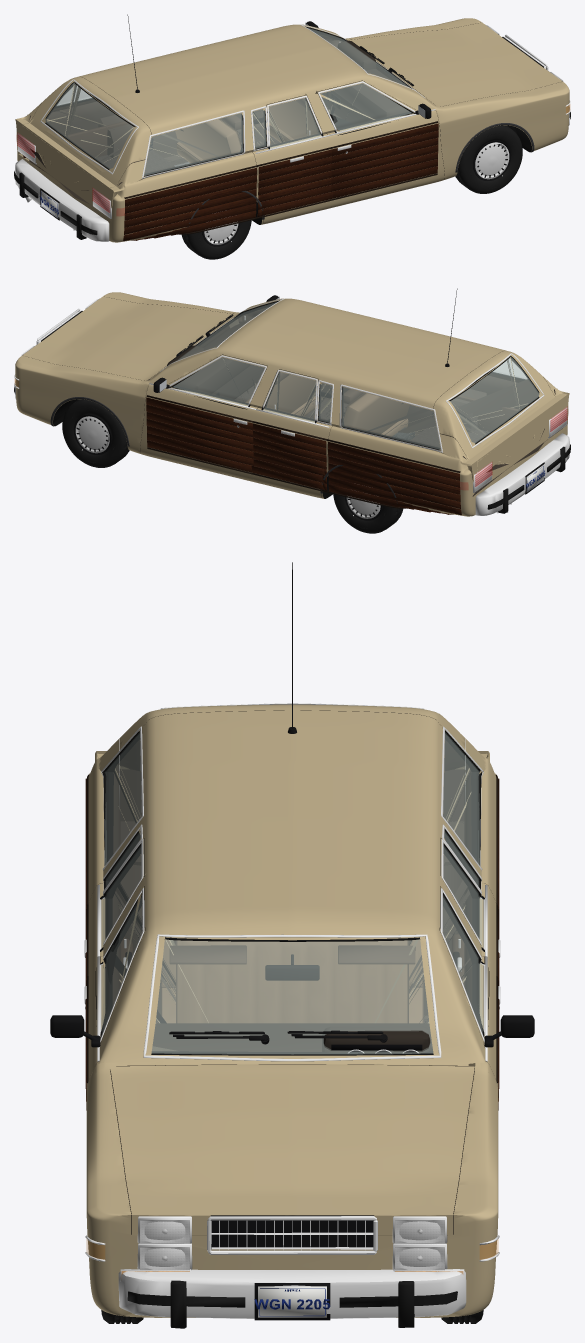
Rendered from wagon82_lod1.glb.
The picture shows the model from 3 angles, top to bottom: view 1: azimuth 30°, elevation 25°; view 2: azimuth 150°, elevation 25°; view 3: azimuth 270°, elevation 25°; orthographic projection. The views are drawn at different scales.
Parts seen in each view (by area): view 1: Body, Hood, Trim, Interior, Tailgate, Trim_FR, Glass, Trim_RR, Glass_Tailgate, Wheel_FR_mesh, Door_FR, Bumper_R (+6 smaller); view 2: Body, Hood, Trim, Interior, Tailgate, Trim_FL, Glass, Trim_RL, Glass_Tailgate, Wheel_FL_mesh, Door_FL, Bumper_R (+6 smaller); view 3: Body, Hood, Glass, Interior, Ends, Bumper_F, Tailgate, Lamps_Head, Trim, Door_FR, Door_FL, Trim_FL (+9 smaller).
Boxes of the visible parts, <box> form: Body: <box>15,18,569,242</box>; Hood: <box>346,22,562,106</box>; Trim: <box>23,14,534,241</box>; Interior: <box>38,40,409,173</box>; Tailgate: <box>21,76,152,215</box>; Trim_FR: <box>318,81,438,200</box>; Glass: <box>57,24,425,176</box>; Trim_RR: <box>251,95,333,217</box>; Glass_Tailgate: <box>40,79,138,174</box>; Wheel_FR_mesh: <box>455,125,522,193</box>; Door_FR: <box>317,80,444,207</box>; Bumper_R: <box>14,159,109,241</box>; Body: <box>15,292,569,516</box>; Hood: <box>22,296,237,380</box>; Trim: <box>50,288,511,515</box>; Interior: <box>167,321,519,496</box>; Tailgate: <box>432,350,563,489</box>; Trim_FL: <box>146,355,266,474</box>; Glass: <box>159,298,526,449</box>; Trim_RL: <box>251,370,333,491</box>; Glass_Tailgate: <box>446,353,544,448</box>; Wheel_FL_mesh: <box>62,399,129,467</box>; Door_FL: <box>140,354,267,481</box>; Bumper_R: <box>475,433,570,515</box>; Body: <box>86,710,498,1317</box>; Hood: <box>110,1064,474,1235</box>; Glass: <box>102,732,480,1061</box>; Interior: <box>152,939,432,1053</box>; Ends: <box>85,775,499,1320</box>; Bumper_F: <box>118,1269,466,1328</box>; Tailgate: <box>119,704,465,861</box>; Lamps_Head: <box>140,1221,444,1270</box>; Trim: <box>85,562,499,1044</box>; Door_FR: <box>86,886,145,1087</box>; Door_FL: <box>439,886,498,1087</box>; Trim_FL: <box>440,888,534,1110</box>.
Bounding box in the file's own units: 4.94 × 2.16 × 2.13.
35 materials, 6 textured.
